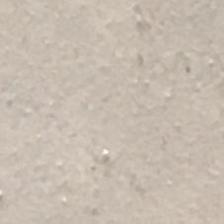Non_Crack: (9, 34, 224, 192)
